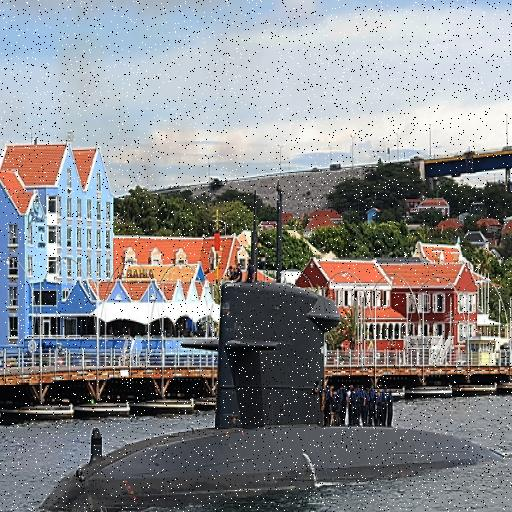submarine: (40, 178, 503, 512)
